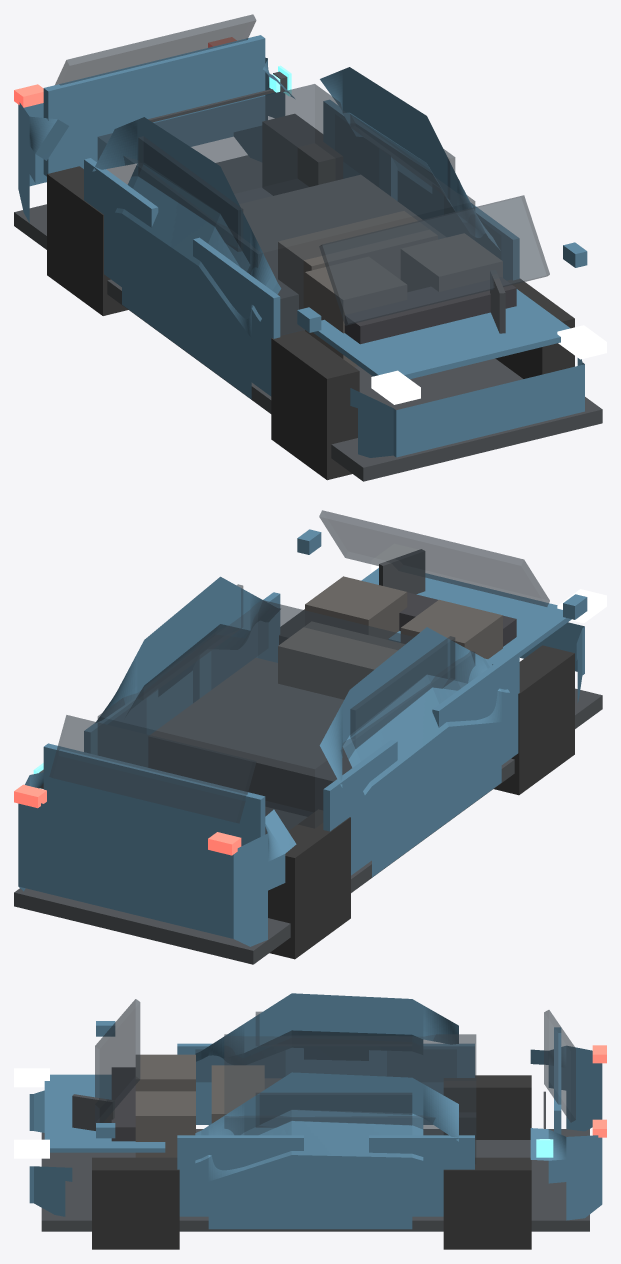
Rendered from fallback.c802aed6e1.glb.
3 views of the same model, one above another, from view 1: azimuth 30°, elevation 25°; view 2: azimuth 150°, elevation 25°; view 3: azimuth 270°, elevation 25° (orthographic). The views are drawn at different scales.
Visible parts, largest first — view 1: body_mesh, cab_mesh, windshield, liftgate_mesh, trim_mesh, tire_fr, frunk_mesh, wheel_well_mesh, tire_rr, seat_rear, dash, seat_r (+13 smaller); view 2: body_mesh, cab_mesh, wheel_well_mesh, liftgate_mesh, rear_glass, windshield, tire_rr, trim_mesh, tire_fr, seat_rear, frunk_mesh, window_fixed_r (+12 smaller); view 3: body_mesh, cab_mesh, trim_mesh, tire_fl, tire_rl, window_fixed_l, tire_rr, door_fl_mesh, frunk_mesh, door_rl_mesh, windshield, door_rr_mesh (+12 smaller).
Boxes of the visible parts, x1,y1,x2,y2 form: body_mesh: [18, 57, 584, 457]; cab_mesh: [97, 84, 475, 335]; windshield: [319, 195, 549, 325]; liftgate_mesh: [43, 35, 265, 176]; trim_mesh: [14, 155, 602, 481]; tire_fr: [271, 330, 359, 480]; frunk_mesh: [313, 289, 570, 379]; wheel_well_mesh: [239, 174, 445, 335]; tire_rr: [47, 166, 128, 315]; seat_rear: [278, 211, 437, 309]; dash: [344, 277, 516, 344]; seat_r: [305, 257, 406, 366]; body_mesh: [18, 576, 584, 946]; cab_mesh: [97, 600, 475, 834]; wheel_well_mesh: [148, 658, 351, 816]; liftgate_mesh: [43, 743, 265, 846]; rear_glass: [49, 715, 256, 823]; windshield: [319, 510, 549, 606]; tire_rr: [268, 809, 350, 959]; trim_mesh: [14, 688, 602, 964]; tire_fr: [494, 645, 574, 795]; seat_rear: [278, 621, 404, 699]; frunk_mesh: [361, 568, 571, 664]; window_fixed_r: [350, 636, 455, 748]; body_mesh: [29, 993, 602, 1229]; cab_mesh: [224, 1034, 476, 1163]; trim_mesh: [41, 1129, 589, 1231]; tire_fl: [92, 1157, 179, 1249]; tire_rl: [443, 1157, 531, 1249]; window_fixed_l: [255, 1092, 412, 1127]; tire_rr: [443, 1075, 531, 1139]; door_fl_mesh: [177, 1135, 303, 1216]; frunk_mesh: [44, 1074, 165, 1152]; door_rl_mesh: [369, 1135, 474, 1216]; windshield: [95, 999, 140, 1123]; door_rr_mesh: [369, 1044, 474, 1124].
Size of the model in its own units: 2.09 by 1.55 by 4.92.
